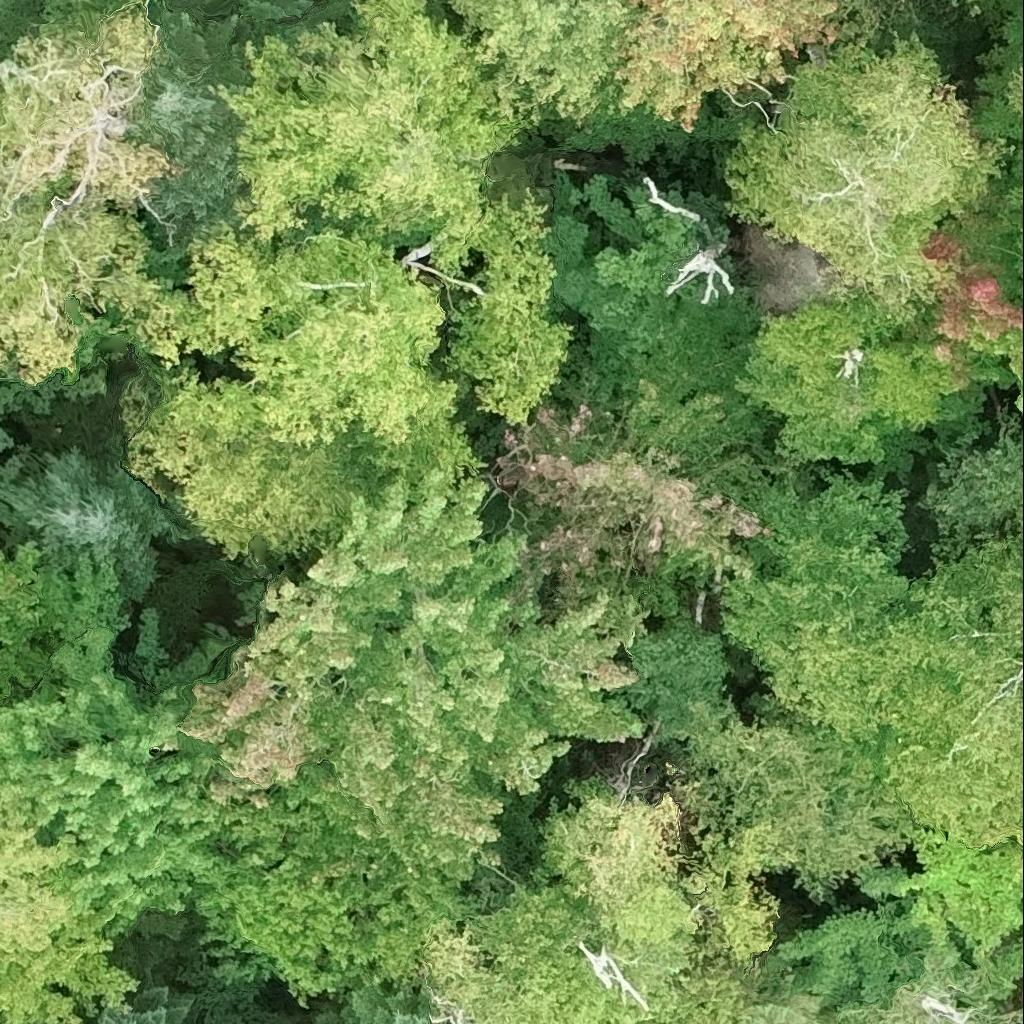crown: (181, 470, 649, 880), (389, 724, 900, 1023), (721, 29, 1006, 322), (0, 13, 216, 389), (213, 0, 529, 239), (495, 380, 782, 640), (0, 626, 228, 946), (192, 789, 472, 1005), (716, 470, 925, 752), (189, 230, 455, 447), (866, 539, 1023, 844), (724, 289, 974, 465), (117, 0, 293, 224), (131, 373, 346, 543), (429, 205, 567, 417), (0, 440, 175, 587), (448, 0, 644, 126), (907, 175, 1023, 371), (885, 792, 1023, 954), (0, 539, 128, 712), (0, 766, 113, 955), (616, 0, 839, 77), (639, 180, 739, 300), (0, 941, 134, 1023), (336, 981, 443, 1023), (77, 987, 196, 1023), (732, 993, 824, 1023), (1006, 65, 1023, 114), (1014, 383, 1023, 416)
